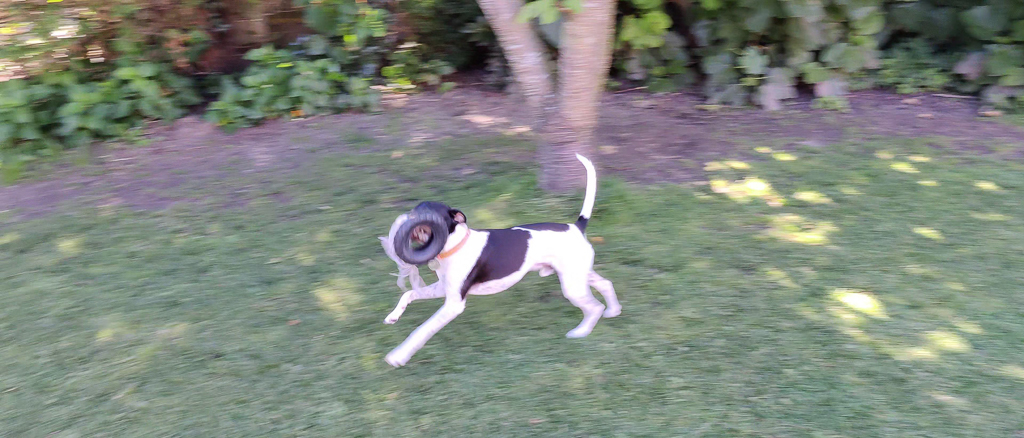Dog: (375, 146, 628, 371)
